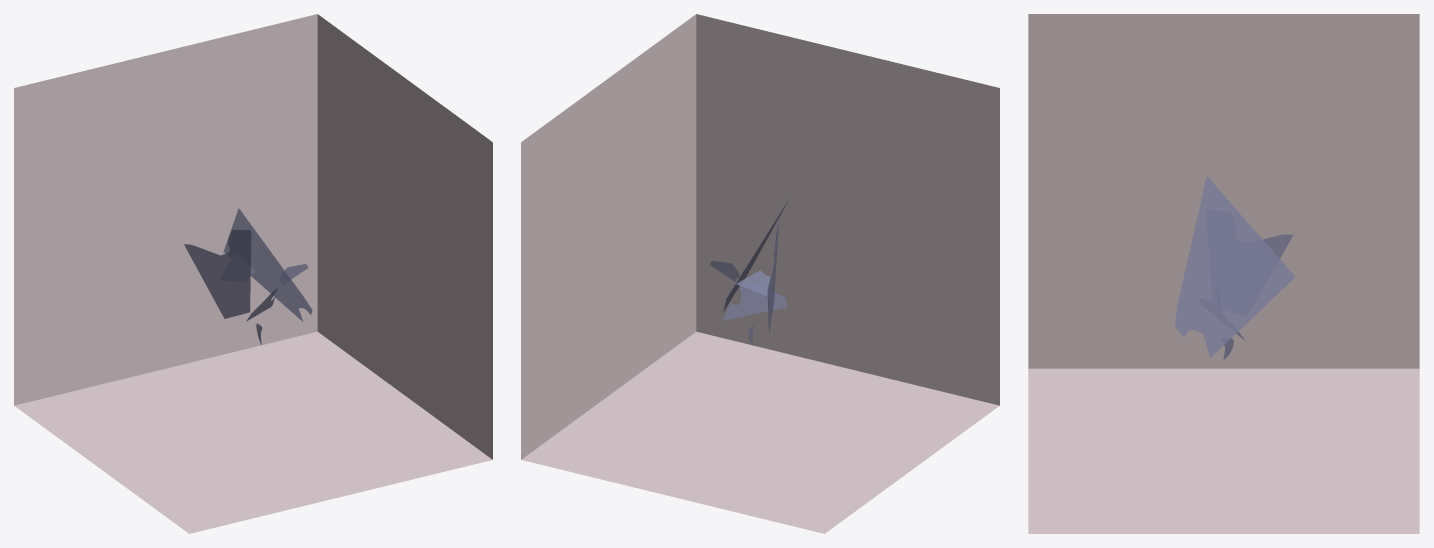
The model's file is mirrors.glb.
The picture shows the model from 3 angles, left to right: view 1: azimuth 30°, elevation 25°; view 2: azimuth 150°, elevation 25°; view 3: azimuth 270°, elevation 25°; orthographic projection. The views are drawn at different scales.
Parts seen in each view (by area): view 1: Cube, Curve.001, Curve.003; view 2: Cube, Curve.002, Curve.004; view 3: Cube, Curve.003, Curve.001.
Part boxes in pixels (x1=…): Cube: x1=14, y1=14, x2=492, y2=533; Curve.001: x1=184, y1=229, x2=251, y2=318; Curve.003: x1=223, y1=208, x2=312, y2=321; Cube: x1=521, y1=14, x2=999, y2=533; Curve.002: x1=723, y1=282, x2=787, y2=320; Curve.004: x1=736, y1=270, x2=772, y2=297; Cube: x1=1028, y1=14, x2=1419, y2=533; Curve.003: x1=1175, y1=176, x2=1294, y2=357; Curve.001: x1=1206, y1=210, x2=1293, y2=315.
Size of the model in its own units: 1.09 by 1.09 by 1.09.
